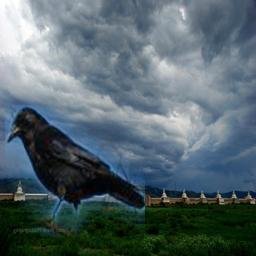Crow: (5, 105, 145, 237)
